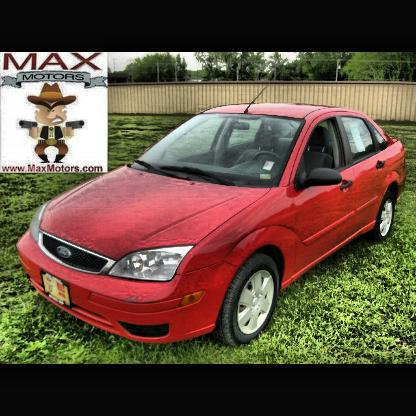Ford Focus Sedan 2007: (18, 105, 410, 350)
